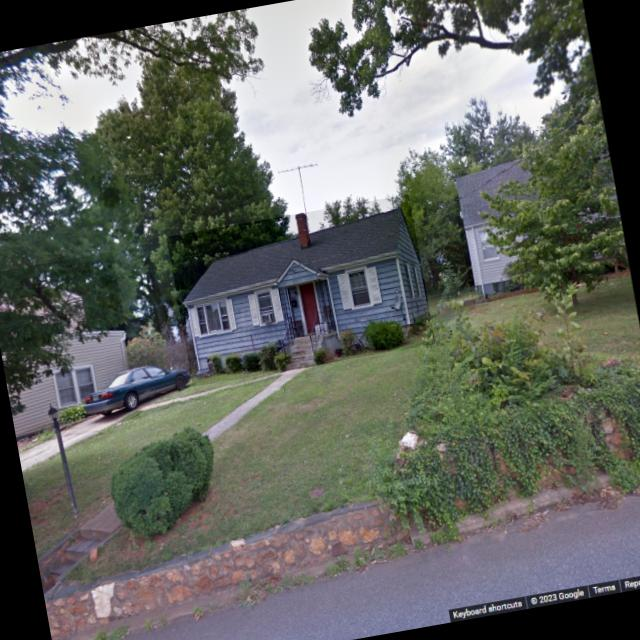House: (166, 194, 434, 386), (449, 145, 629, 303), (0, 251, 141, 440)
